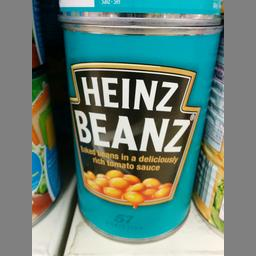beans: (58, 22, 220, 244)
